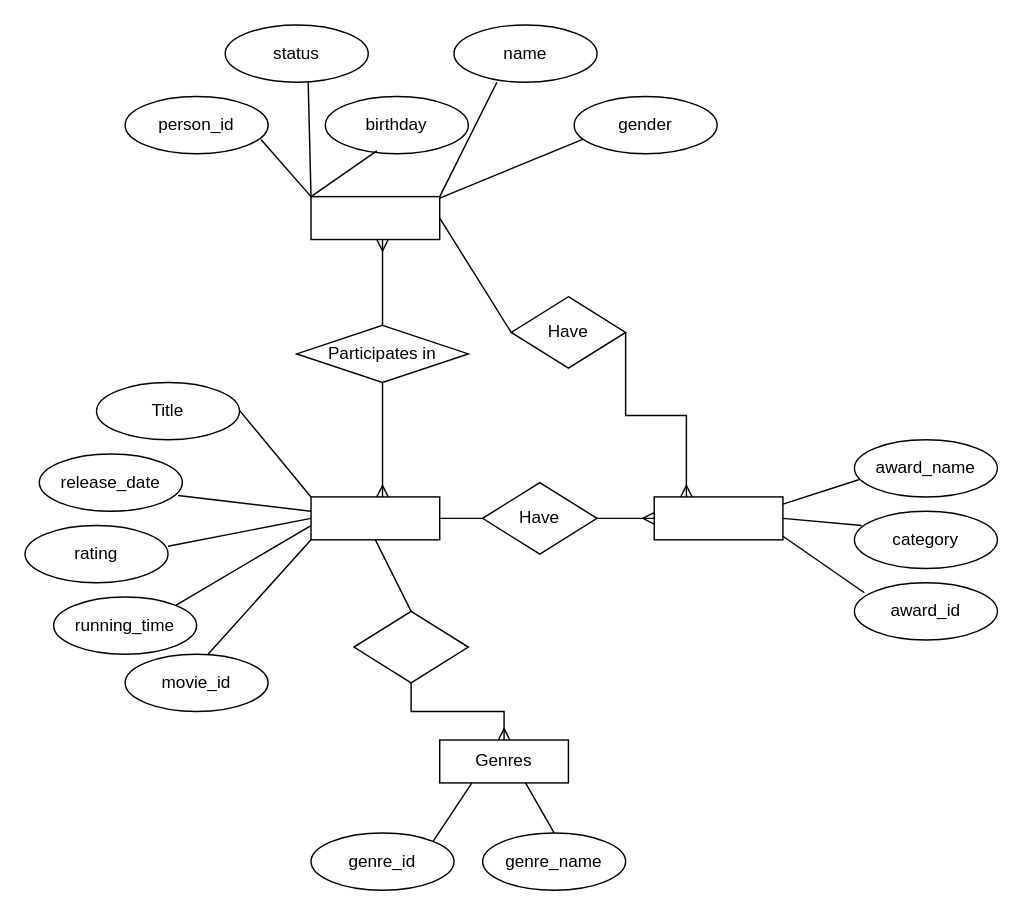
Image size: 1022x915. Some labels were removed from this diagram. The shapes that lost their labels are listed below. From the top down, each one's box as (x1, y1, x2, y2) in pixels, then its label:
(310, 195, 440, 240): Persons
(310, 495, 440, 540): Movies
(653, 495, 783, 540): Awards
(352, 610, 468, 683): Belongs to
